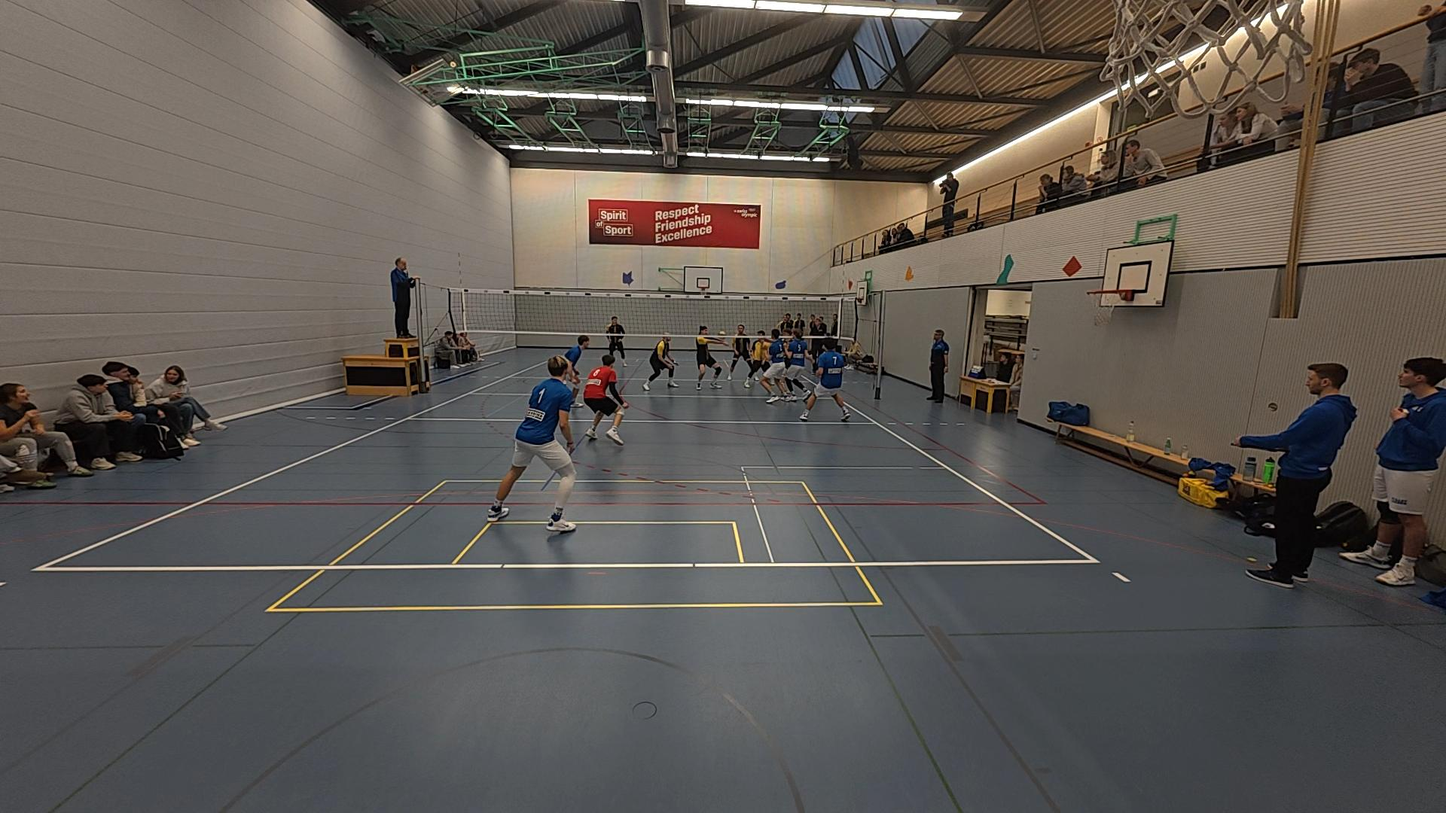difesa: (692, 324, 725, 390)
